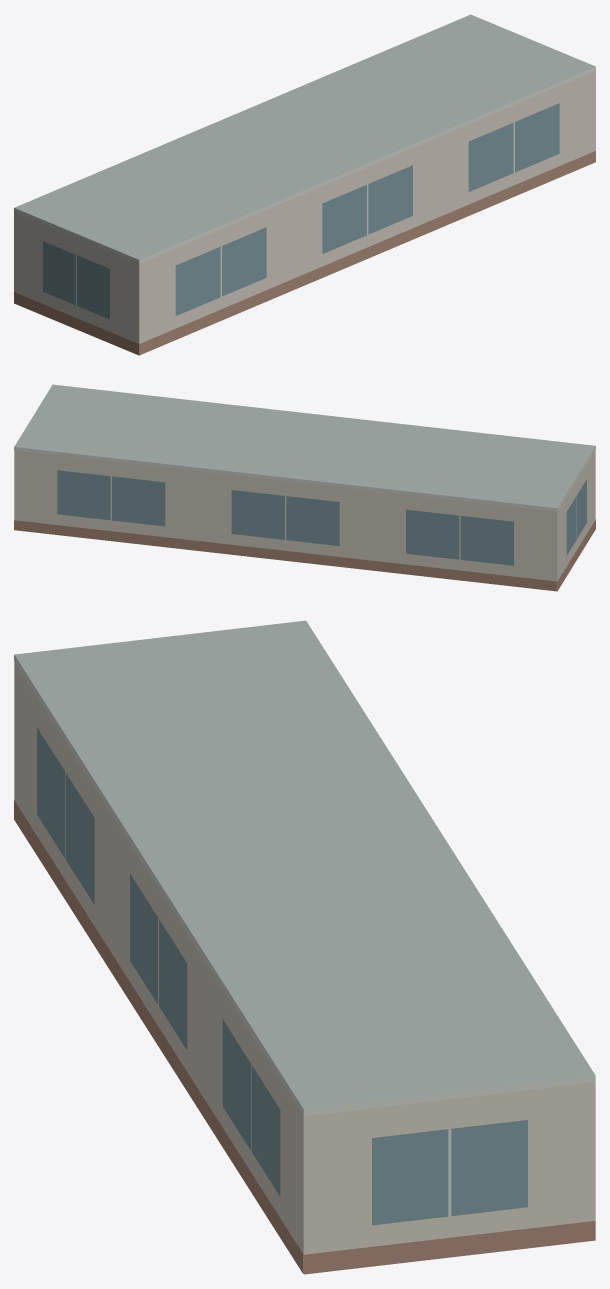
Rendered from survey-upis-32694386.glb.
3 renders of one model, top to bottom at view 1: azimuth 30°, elevation 25°; view 2: azimuth 150°, elevation 25°; view 3: azimuth 270°, elevation 25°, orthographic. The views are drawn at different scales.
Visible parts, largest first — view 1: survey-upis-32694386.tmp; view 2: survey-upis-32694386.tmp; view 3: survey-upis-32694386.tmp.
Part boxes in pixels (x1,y1,x2,y2): survey-upis-32694386.tmp: (14,14,595,355); survey-upis-32694386.tmp: (14,384,595,591); survey-upis-32694386.tmp: (14,620,595,1274).
Size of the model in its own units: 19.41 by 3.05 by 9.76.
